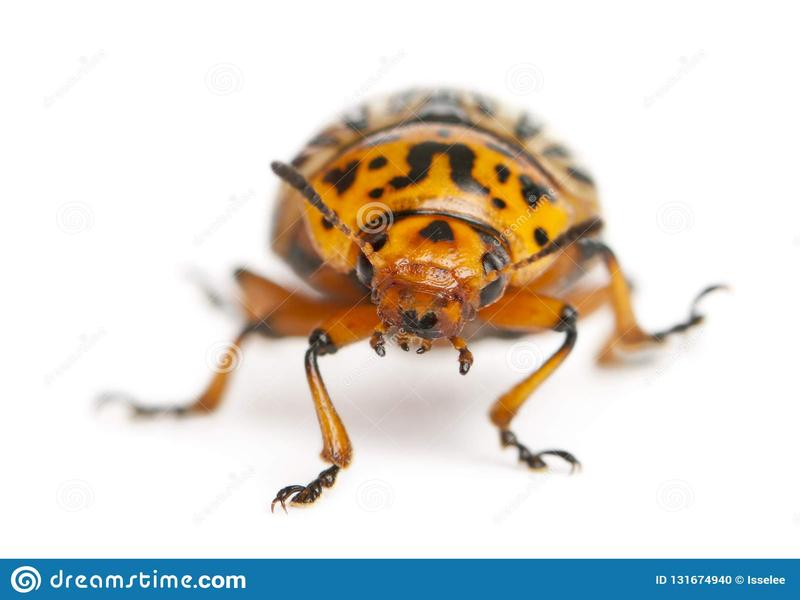hrosc: (219, 70, 664, 489)
